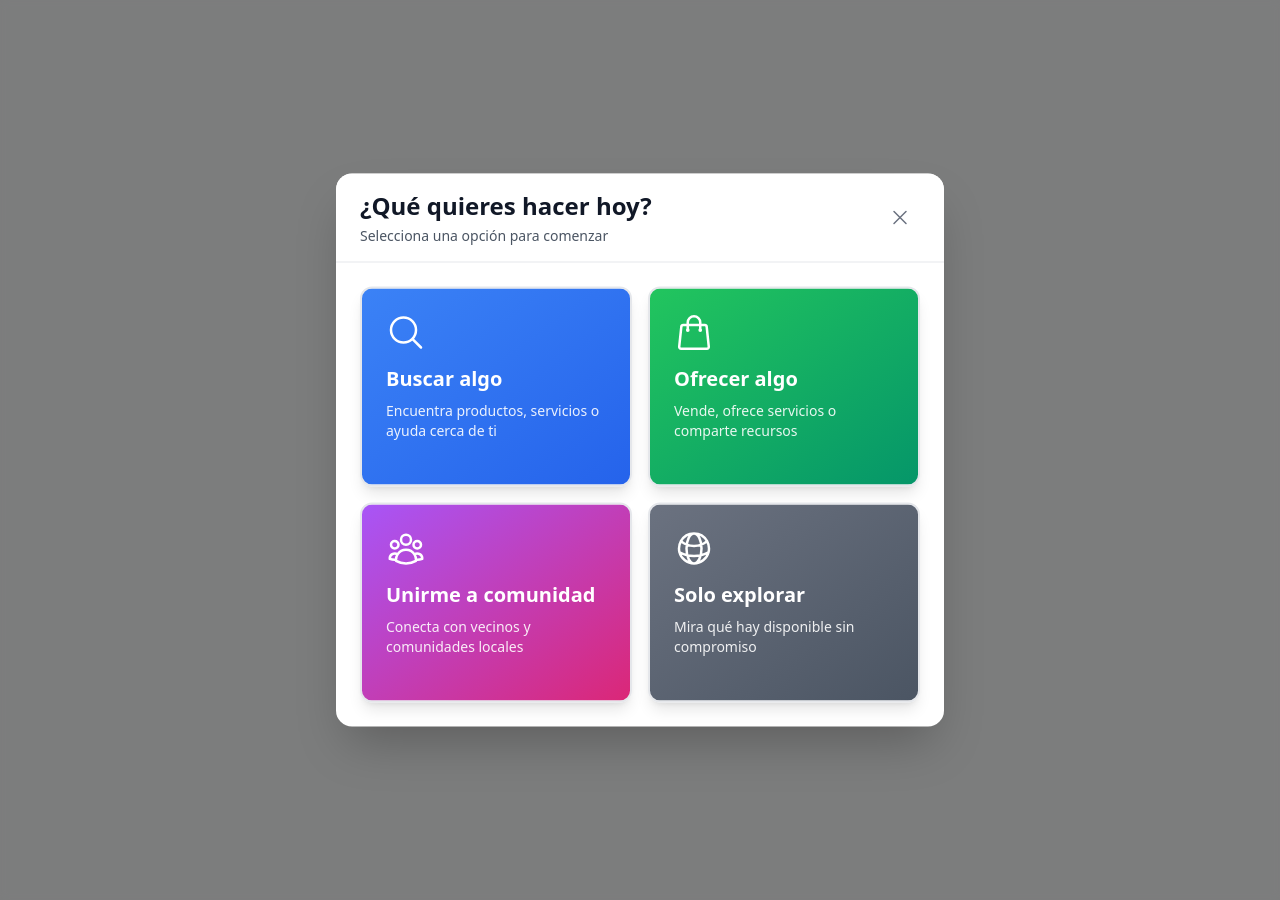
Test: IntentionOnboarding › disables continue button when required fields are empty
Note: Click on offer option
Step 1. Click the heading "Ofrecer algo" → (736, 378), box [674, 364, 798, 392]
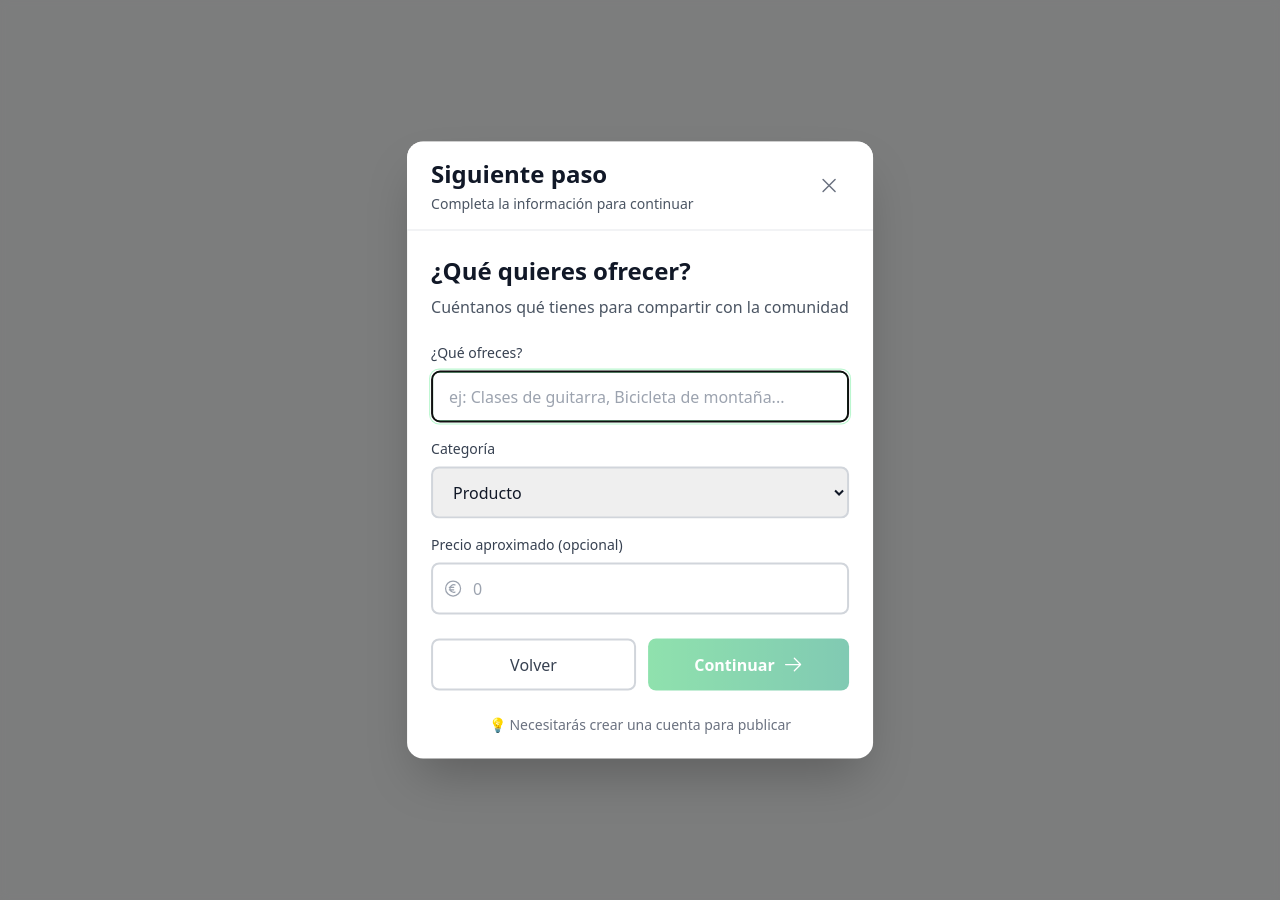
Check: the heading "¿Qué quieres ofrecer?" is shown, box [431, 254, 691, 286]
Check: the button "Continuar" is disabled, box [648, 638, 849, 690]
Note: Fill in title
Step 2. Type "Clases de piano" into the field with placeholder "ej: Clases de guitarra, Bicicleta de montaña..." → (640, 396), box [431, 370, 849, 422]
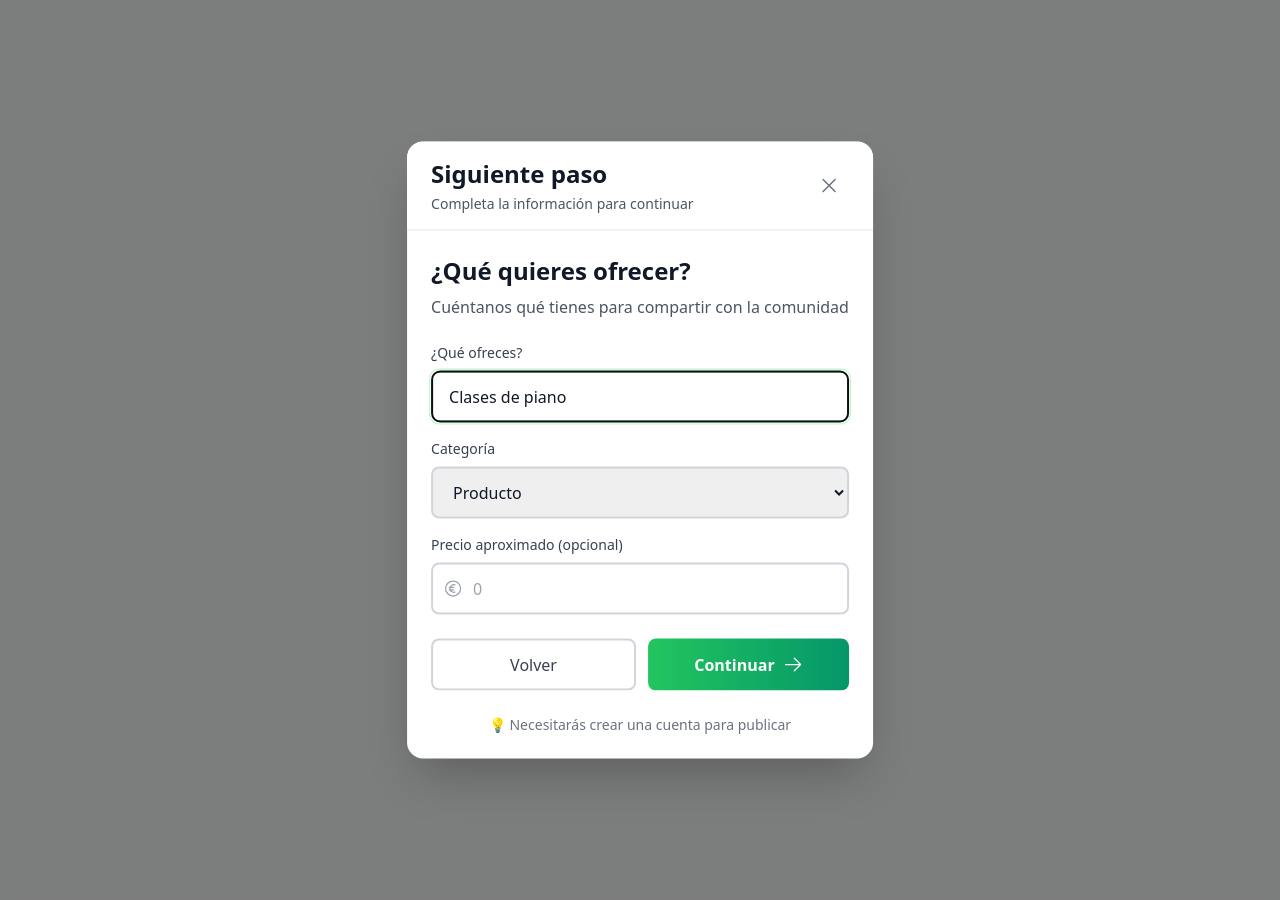
Check: the button "Continuar" is enabled, box [648, 638, 849, 690]
